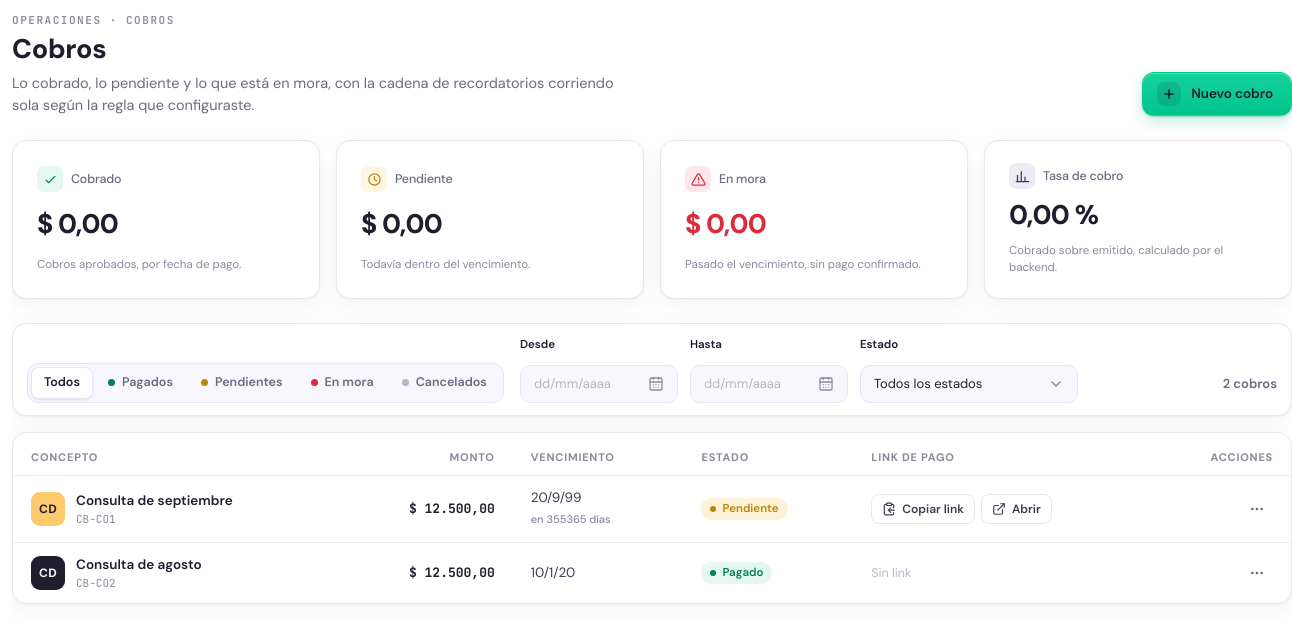
Test: el listado de cobros — filtros y vacíos › «Limpiar filtros» sólo aparece con un filtro activo y lo quita
Expected: the button "Limpiar filtros" is not shown
What coordinates should you click on to do the following:
click the button "Pendientes"
I would click on:
 (242, 383)
Its box is [188,367,296,399].
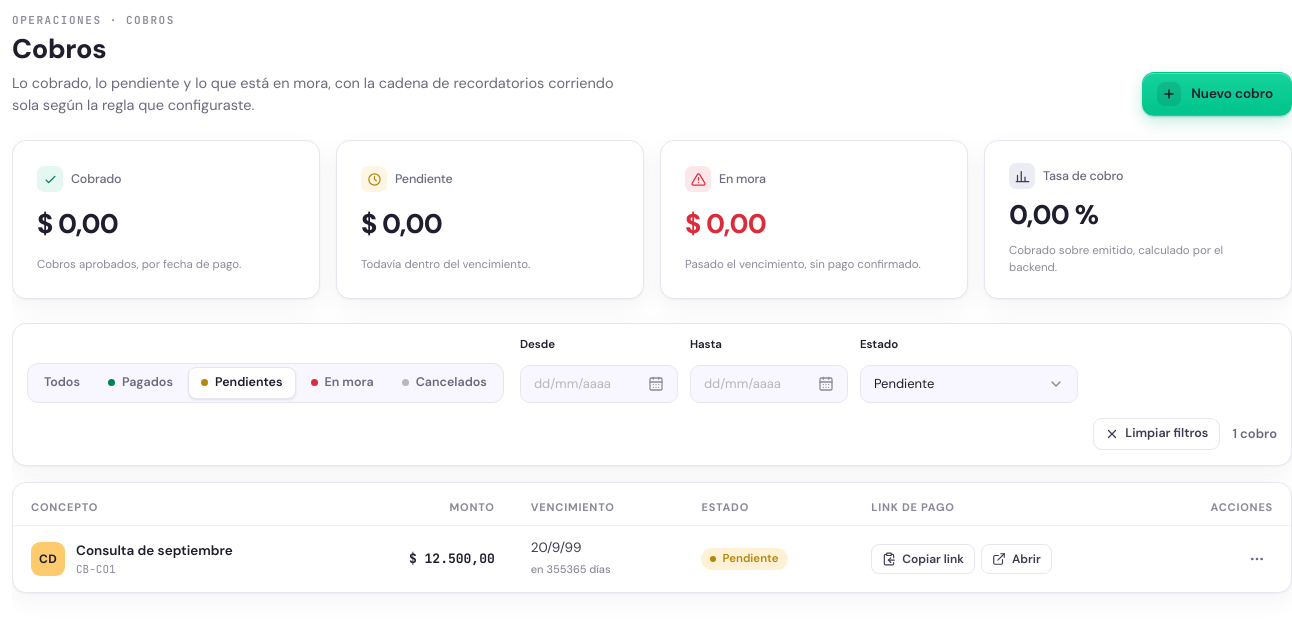
What coordinates should you click on to do the following:
click the button "Limpiar filtros"
I would click on:
 (1157, 434)
Its box is [1093,418,1220,450].
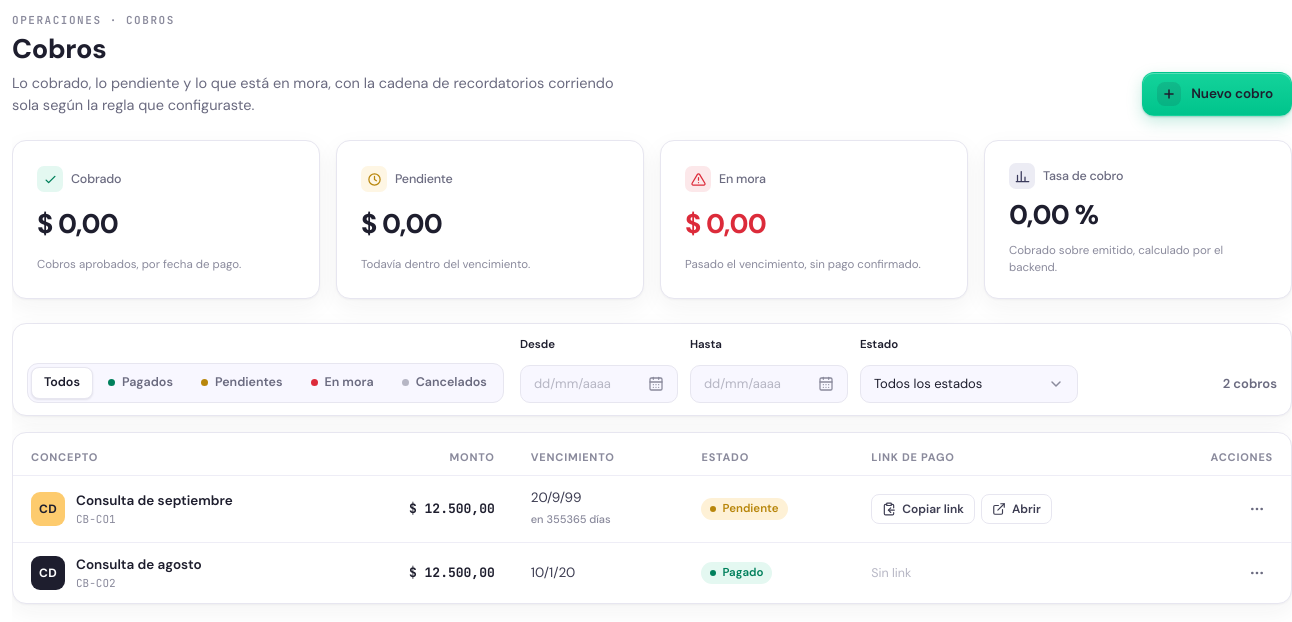
Expected: the button "Limpiar filtros" is gone
